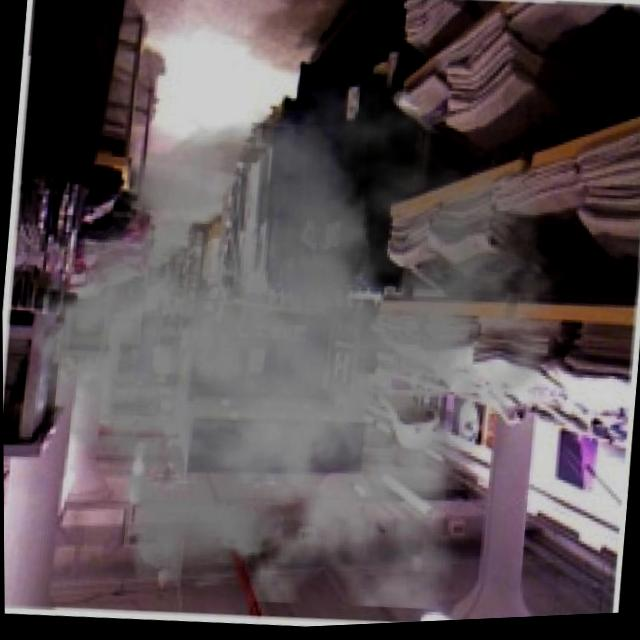Smoke: (3, 59, 591, 619)
